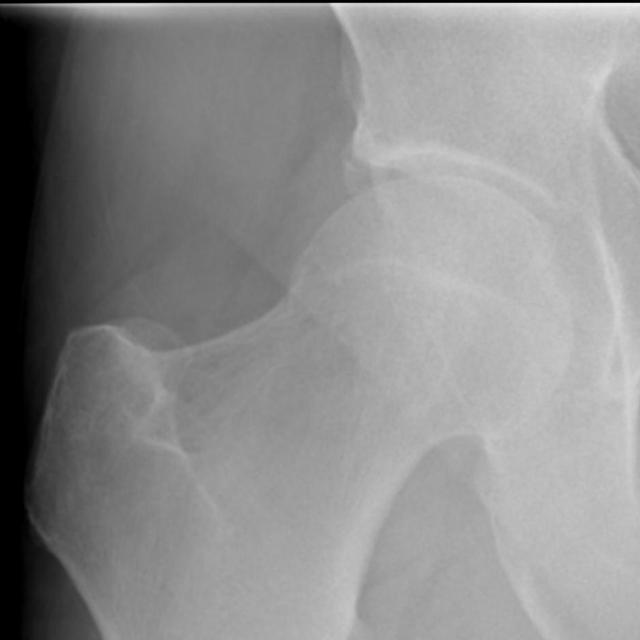Fitted_femural_head: (285, 176, 432, 285)
